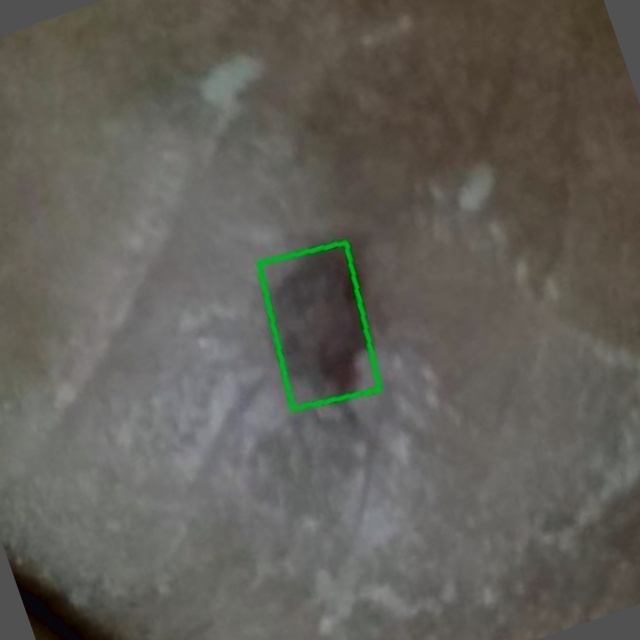Tinea Corporis: (259, 243, 380, 409)
